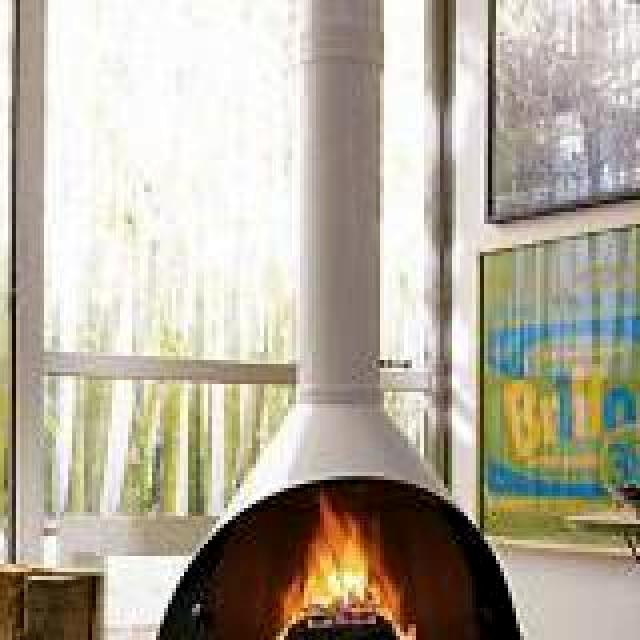fire: (276, 492, 416, 640)
